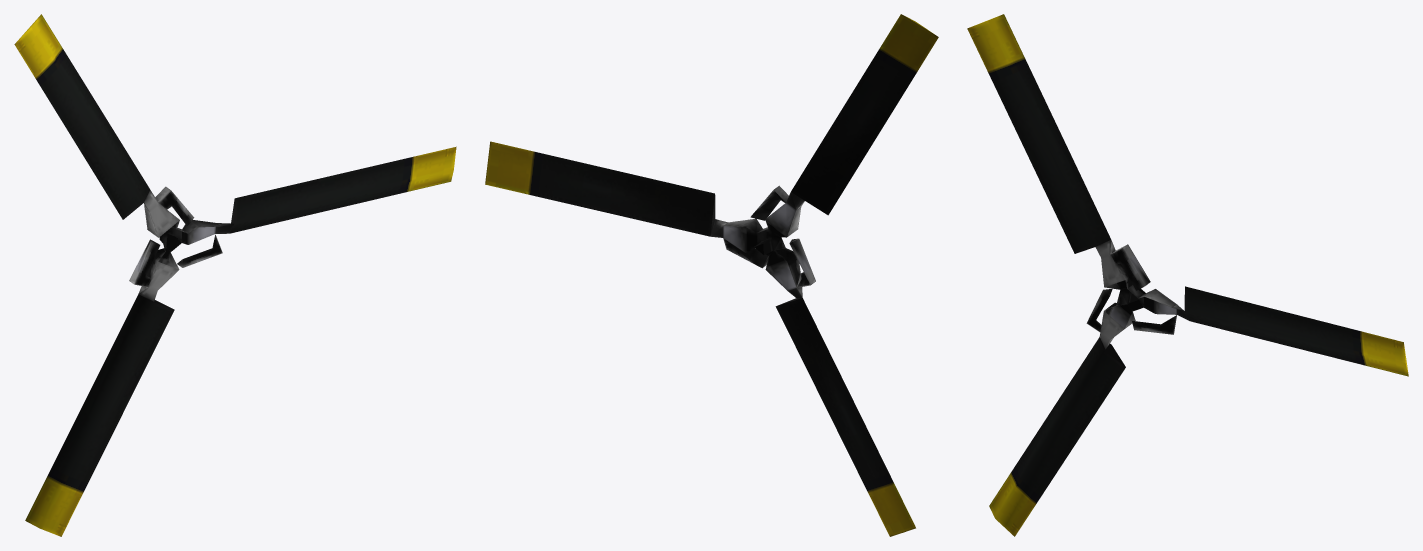
The model's file is backBlade6.obj.
3 renders of one model, left to right at view 1: azimuth 30°, elevation 25°; view 2: azimuth 150°, elevation 25°; view 3: azimuth 330°, elevation 25°, orthographic. The views are drawn at different scales.
Visible parts, largest first — view 1: Null_glass.005_Body; view 2: Null_glass.005_Body; view 3: Null_glass.005_Body.
Boxes of the visible parts, x1,y1,x2,y2 form: Null_glass.005_Body: (14, 14, 456, 536); Null_glass.005_Body: (485, 14, 938, 536); Null_glass.005_Body: (967, 14, 1408, 536).
Bounding box in the file's own units: 1.3 × 1.47 × 0.0838.
Materials: 1 (1 with a texture image).
